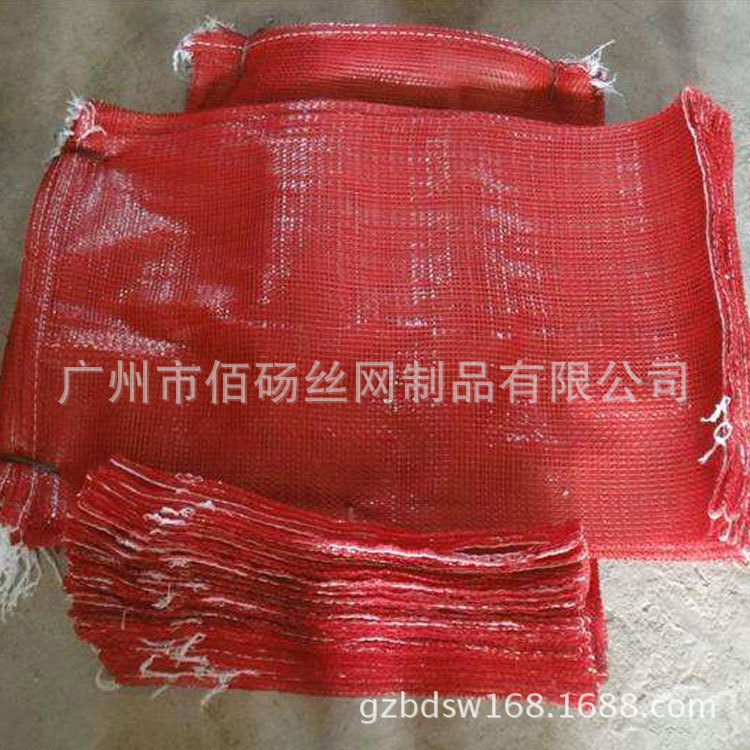Parcel: (0, 92, 750, 555)
